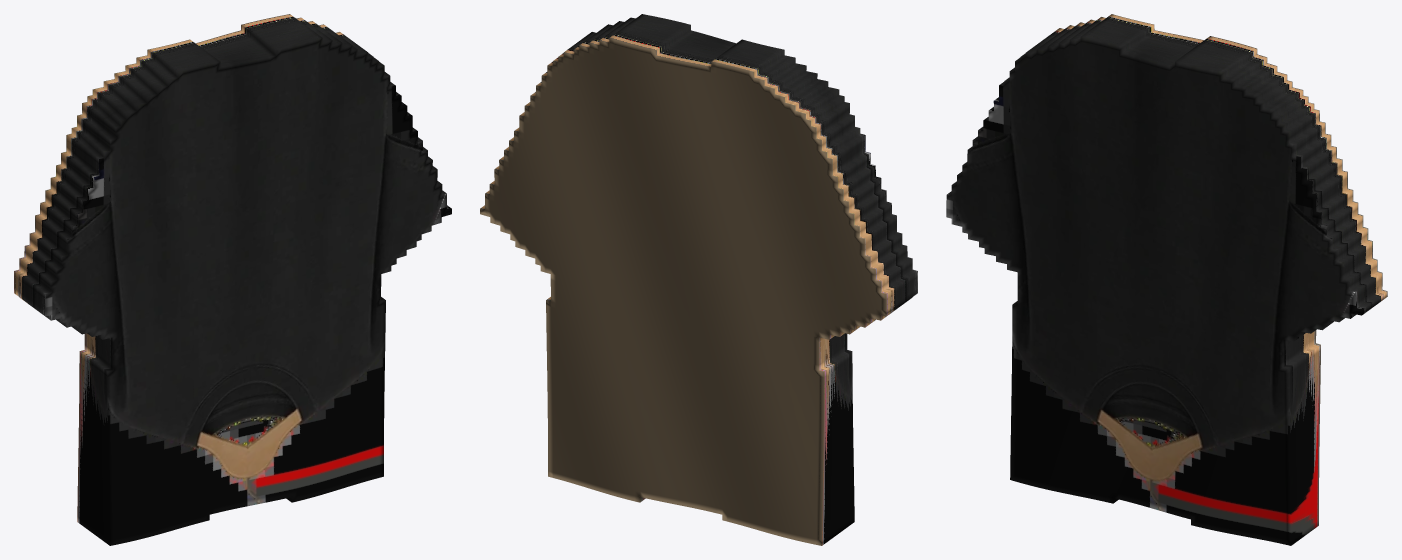
Rendered from offcut-heavy-black.glb.
The picture shows the model from 3 angles, left to right: view 1: azimuth 30°, elevation 25°; view 2: azimuth 150°, elevation 25°; view 3: azimuth 330°, elevation 25°; orthographic projection.
Visible parts, largest first — view 1: offcut-heavy-black; view 2: offcut-heavy-black; view 3: offcut-heavy-black.
Part boxes in pixels (box(x1,y1,x2,y2)): offcut-heavy-black: box(14, 14, 451, 545); offcut-heavy-black: box(480, 14, 917, 545); offcut-heavy-black: box(946, 14, 1387, 545).
Size of the model in its own units: 0.693 by 0.738 by 0.104.
1 material, 1 textured.
